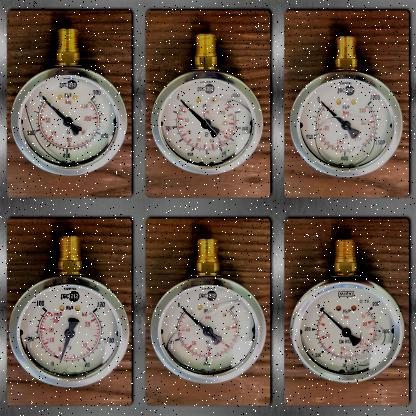needle: (181, 306, 207, 331), (320, 101, 345, 126), (320, 307, 344, 332), (180, 100, 205, 124), (42, 95, 66, 120), (58, 338, 71, 365)
